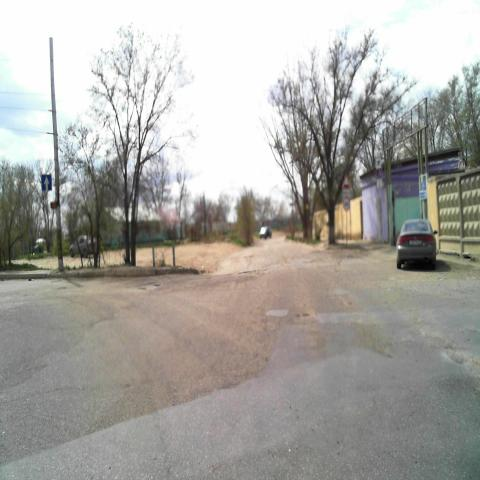1_16: (342, 175, 350, 189)
